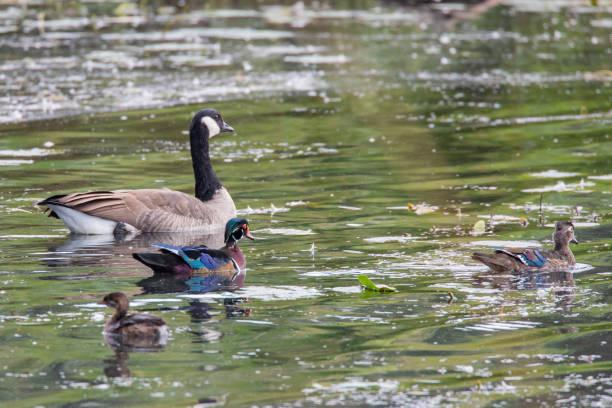Canadian-Goose: (40, 110, 243, 235)
